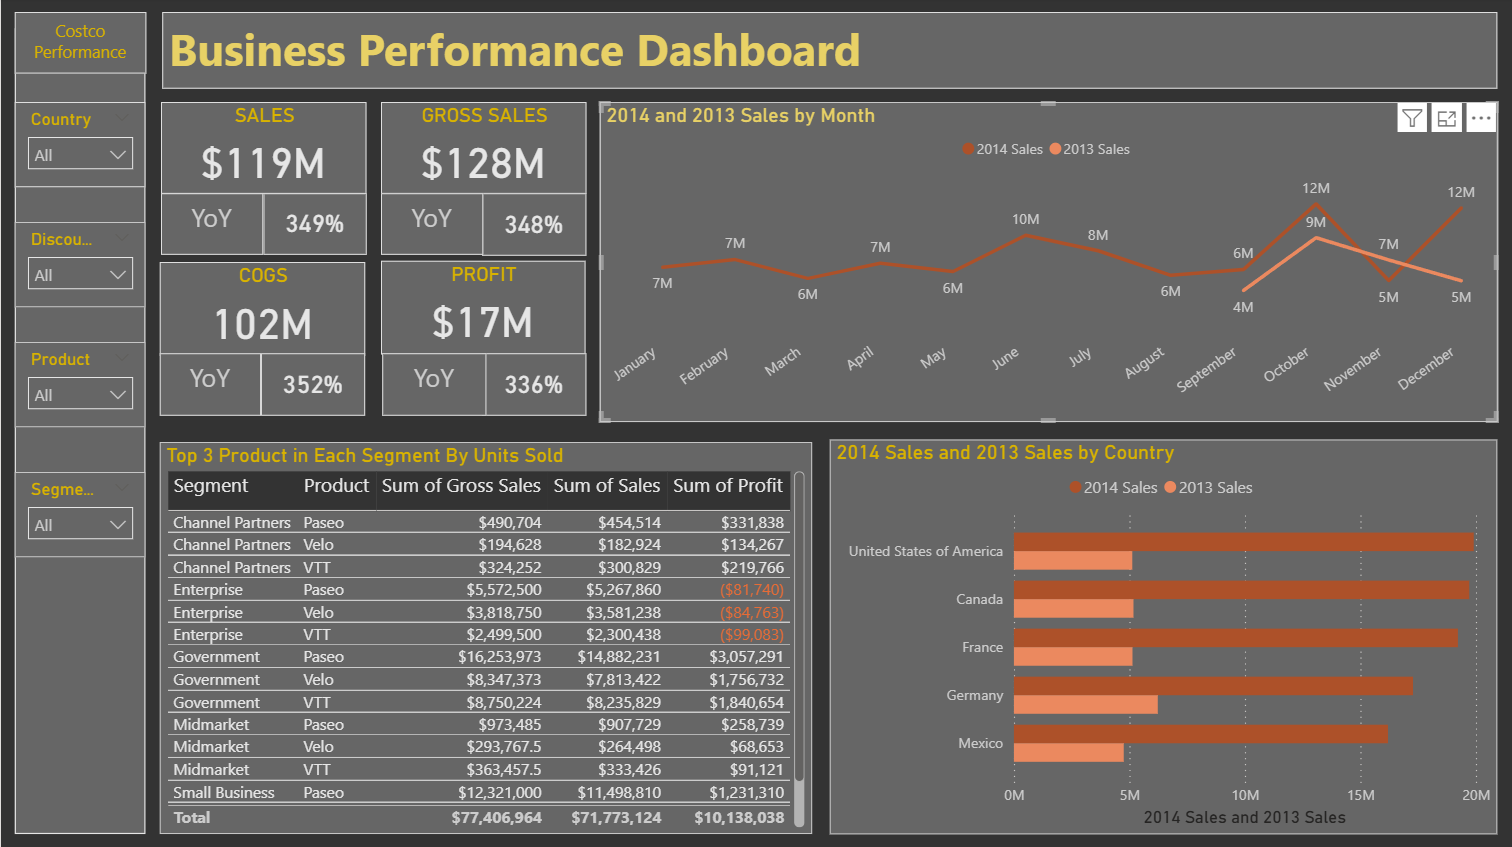

The dashboard page shown, as its layout file describes it:
{"tool":"powerbi","page":{"name":"KPI Dashboard","canvas":[1280,720],"ordinal":0},"visuals":[{"type":"shape","box":[12,26.4,110.5,680.8],"z":0},{"type":"textbox","box":[136.1,12.5,1127.6,64.4],"z":1000},{"type":"card","title":"GROSS SALES","fields":{"Values":["Sum(financials.Gross Sales)"]},"box":[321.1,88.3,173.6,77.9],"z":2000},{"type":"card","title":"COGS","fields":{"Values":["Sum(financials.COGS)"]},"box":[134.1,223.4,173.6,79],"z":3000},{"type":"card","title":"PROFIT","fields":{"Values":["Sum(financials.Profit)"]},"box":[321.1,222.4,172.5,79],"z":4000},{"type":"card","title":"SALES","fields":{"Values":["financials.Sum of  Sales YoY%"]},"box":[221.4,166.3,87.3,52],"z":5000},{"type":"textbox","box":[135.1,166.3,86.3,52],"z":6000},{"type":"card","title":"SALES","fields":{"Values":["Sum(financials. Sales)"]},"box":[135.1,88.3,173.6,77.9],"z":7000},{"type":"card","title":"SALES","fields":{"Values":["financials.Sum of Gross Sales YoY%"]},"box":[406.6,165.8,87.7,52.8],"z":8000},{"type":"textbox","box":[321.1,166.3,86.3,52],"z":9000},{"type":"card","title":"SALES","fields":{"Values":["financials.Sum of COGS YoY%"]},"box":[219.3,301.4,88.3,53],"z":10000},{"type":"textbox","box":[134.1,301.4,85.2,53],"z":11000},{"type":"card","title":"SALES","fields":{"Values":["financials.Sum of Profit YoY%"]},"box":[407.1,301.4,87.7,52.8],"z":12000},{"type":"textbox","box":[321.8,301.4,87.7,52.8],"z":13000},{"type":"lineChart","title":"2014 and 2013 Sales by Month","fields":{"Category":["financials.Date.Variation.Date Hierarchy.Month"],"Y":["financials.2014 Sales","financials.2013 Sales"]},"box":[505.5,88.9,758.9,270.2],"z":14000},{"type":"tableEx","title":"Top 3 Product in Each Segment By Units Sold","fields":{"Values":["financials.Segment","financials.Product","Sum(financials.Gross Sales)","Sum(financials. Sales)","Sum(financials.Profit)"]},"box":[134.1,376.2,550.8,331.5],"z":15000},{"type":"clusteredBarChart","fields":{"Category":["financials.Country"],"Y":["financials.2014 Sales","financials.2013 Sales"]},"box":[700.5,374.1,564.3,333.6],"z":16000},{"type":"textbox","box":[11.6,12.7,110.9,51.7],"z":17000},{"type":"slicer","fields":{"Values":["financials.Country"]},"box":[12,88.9,110.5,72],"z":18000},{"type":"slicer","fields":{"Values":["financials.Discount Band"]},"box":[12,189.7,110.5,72],"z":19000},{"type":"slicer","fields":{"Values":["financials.Product"]},"box":[12,291.8,110.5,72],"z":20000},{"type":"slicer","fields":{"Values":["financials.Segment"]},"box":[12,401.1,110.5,72],"z":21000}]}

Visuals, with their boxes in screenshot pixels (x1, y1, x2, y2), scaled from the page's 1280x720 canvas onto the 1512x847 screenshot:
shape: bbox=[14, 31, 145, 832]
textbox: bbox=[161, 15, 1493, 90]
"GROSS SALES" card: bbox=[379, 104, 584, 196]
"COGS" card: bbox=[158, 263, 363, 356]
"PROFIT" card: bbox=[379, 262, 583, 355]
"SALES" card: bbox=[262, 196, 365, 257]
textbox: bbox=[160, 196, 262, 257]
"SALES" card: bbox=[160, 104, 365, 196]
"SALES" card: bbox=[480, 195, 584, 257]
textbox: bbox=[379, 196, 481, 257]
"SALES" card: bbox=[259, 355, 363, 417]
textbox: bbox=[158, 355, 259, 417]
"SALES" card: bbox=[481, 355, 584, 417]
textbox: bbox=[380, 355, 484, 417]
"2014 and 2013 Sales by Month" lineChart: bbox=[597, 105, 1494, 422]
"Top 3 Product in Each Segment By Units Sold" tableEx: bbox=[158, 443, 809, 833]
clusteredBarChart - financials.Country x financials.2014 Sales: bbox=[827, 440, 1494, 833]
textbox: bbox=[14, 15, 145, 76]
slicer - financials.Country: bbox=[14, 105, 145, 189]
slicer - financials.Discount Band: bbox=[14, 223, 145, 308]
slicer - financials.Product: bbox=[14, 343, 145, 428]
slicer - financials.Segment: bbox=[14, 472, 145, 557]
